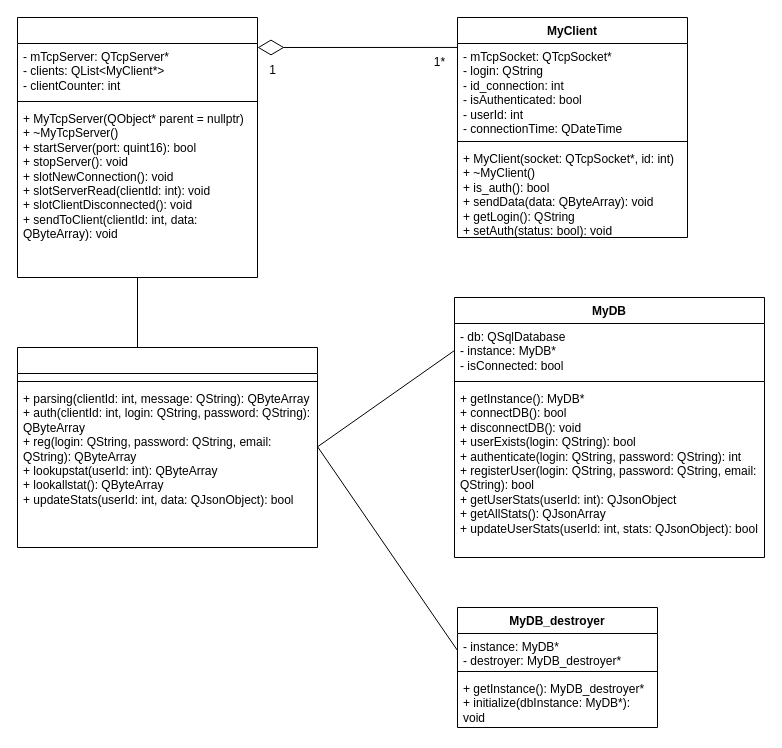
This 782x748 diagram has some shape labels left out. Each missing label, with the box of its shape:
FunctionsForServer: (16, 346, 318, 548)
MeTcpServer: (16, 16, 258, 278)
